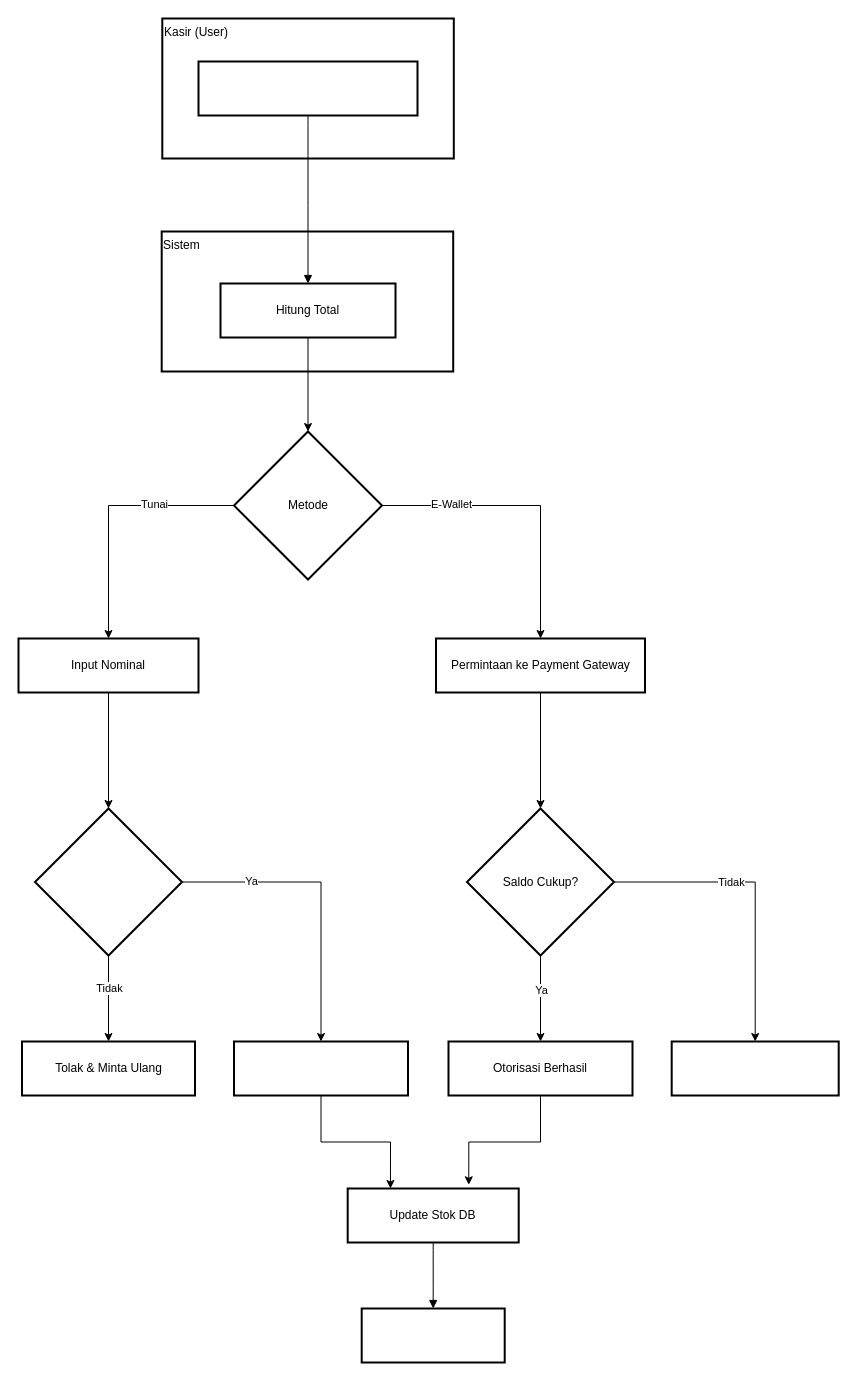
Some shapes in this 857 by 1380 pixel diagram are drawn without their labels. The shapes that lost their labels are listed below. From the top down, each one's centre as x and y in pixels, then its label:
At [307,88]: "Scan Produk".
At [108,881]: "Cukup?".
At [320,1068]: "Proses Transaksi".
At [754,1068]: "Gagal & Kembali".
At [432,1335]: "Cetak Struk".
